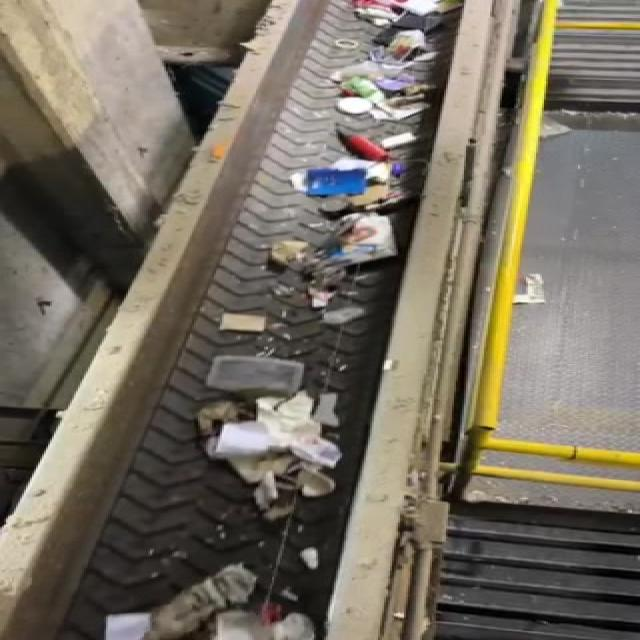paper: (90, 557, 350, 640)
pp: (183, 397, 348, 527), (192, 348, 325, 396)
